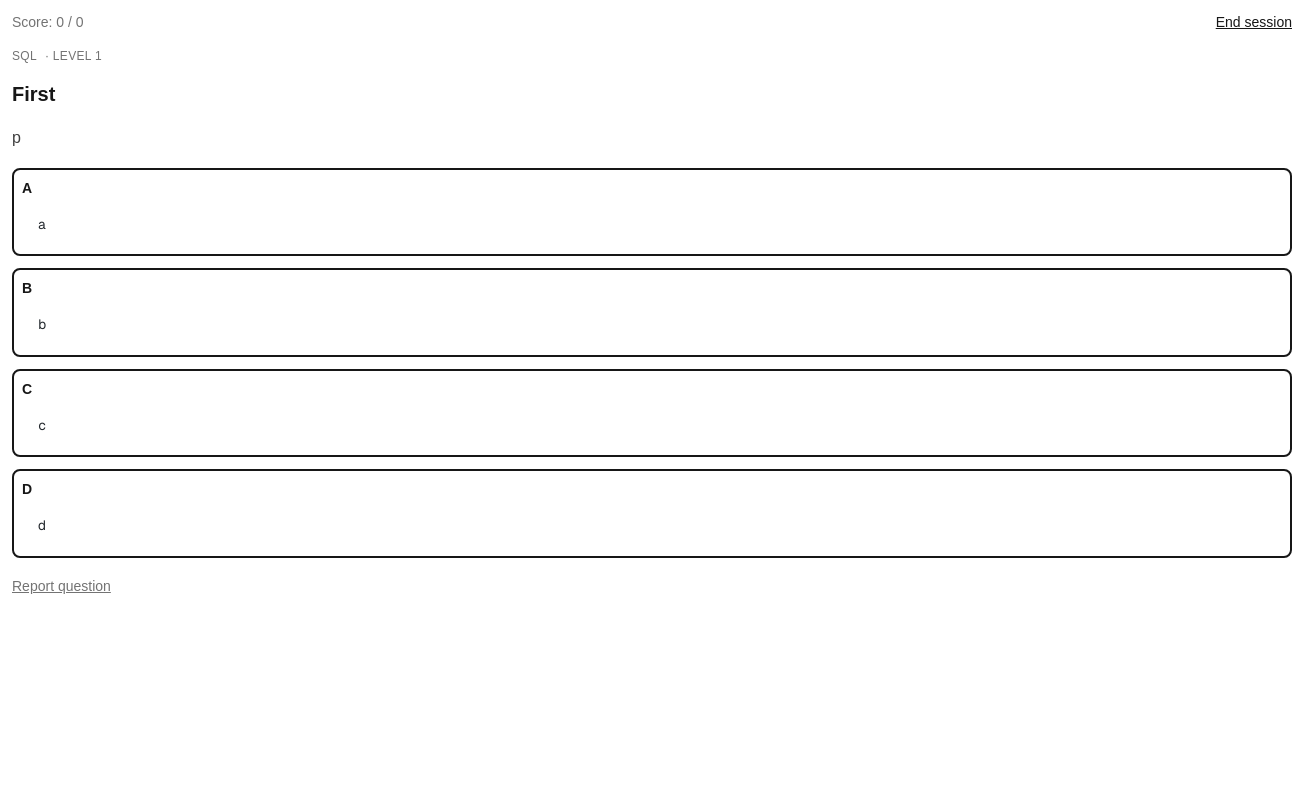
Scenario: answer -> feedback with explanations -> next question -> pool exhausted
Check: the heading "First" is shown, box [12,83,55,105]
Click the button named "Option".
click(652, 212)  # box [12,168,1292,256]
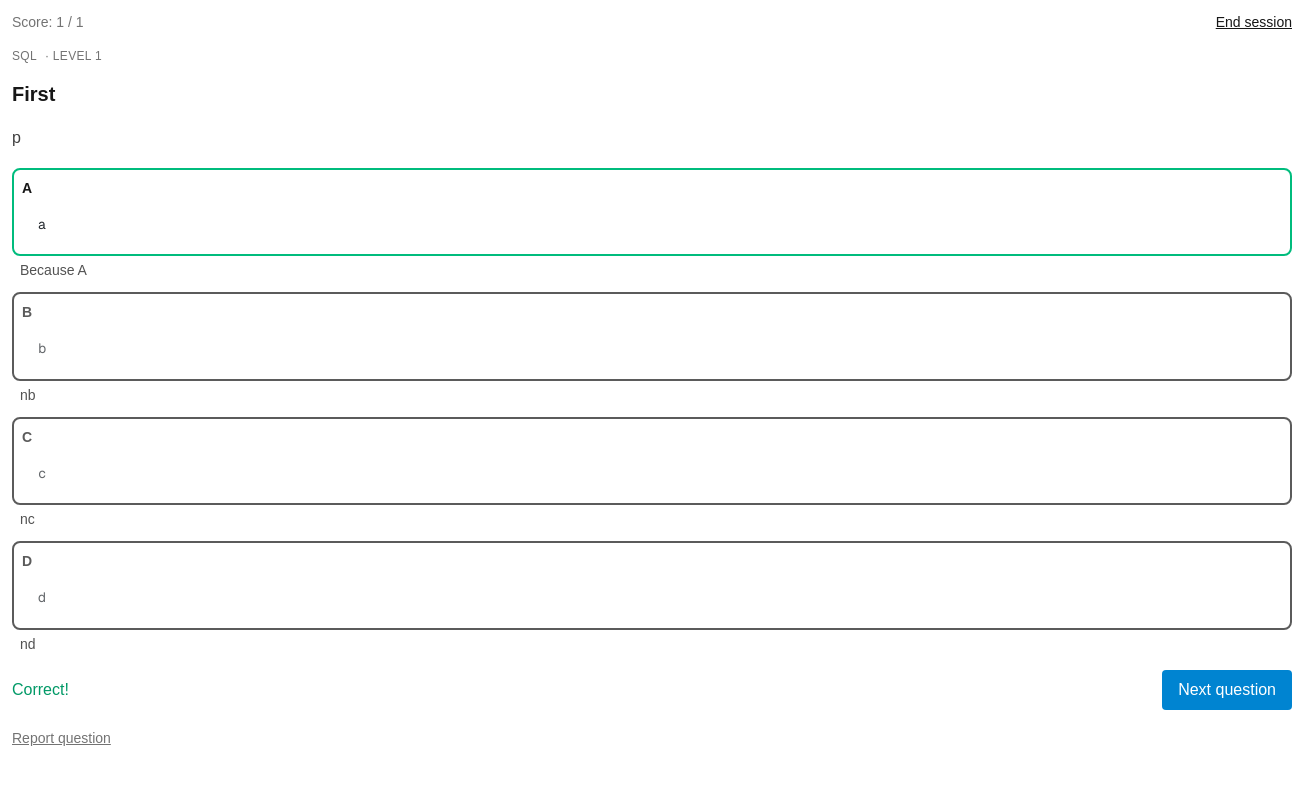
Check: the text "Because A" is shown, box [20,262,87,278]
Check: the text "Score: 1 / 1" is shown, box [12,12,84,32]
Click the button "Next question".
click(1227, 690)  # box [1162,670,1292,710]
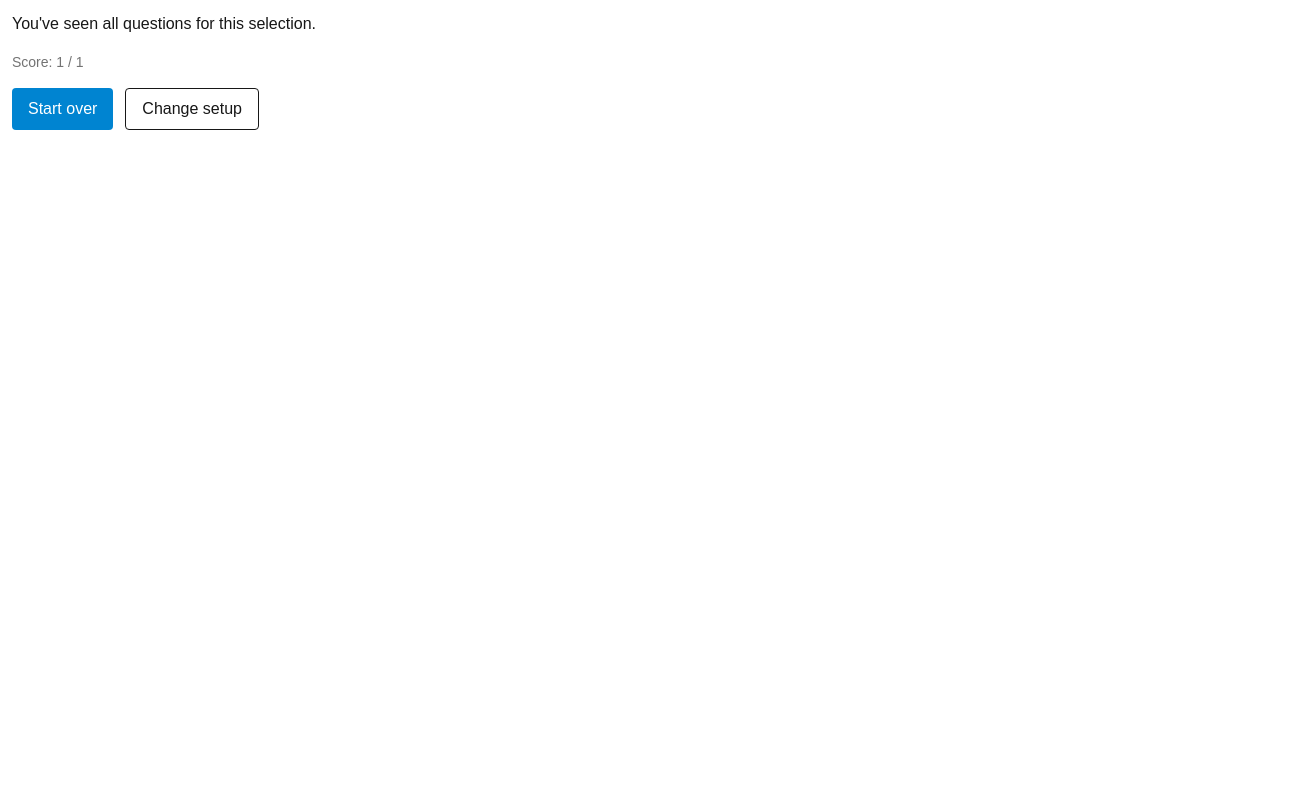
Check: the text "You've seen all questions for this selection." is shown, box [12,15,316,32]
